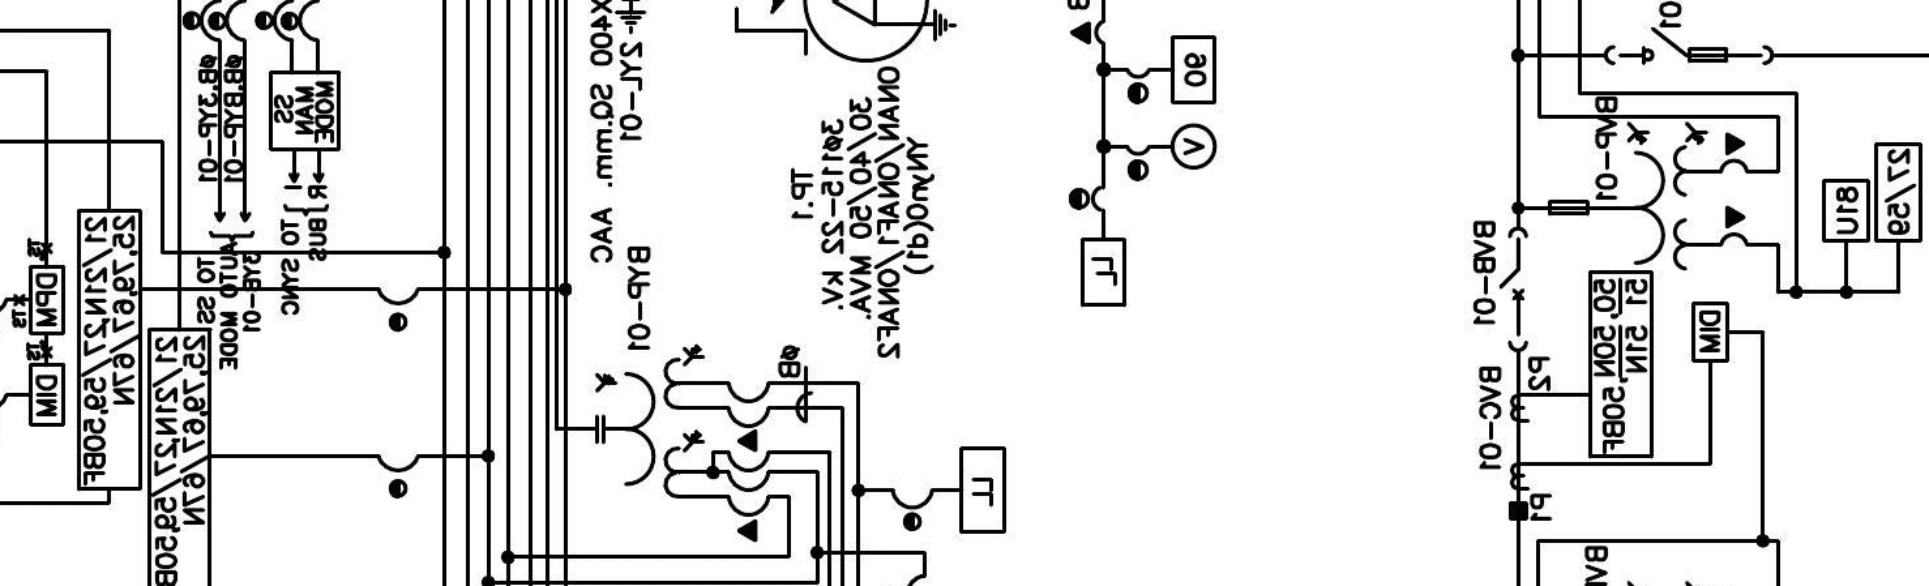115_cvt_3p: (595, 343, 706, 499)
22_breaker: (1499, 226, 1529, 353)
22_ds: (1603, 27, 1774, 66)
22_vt_3p: (1547, 120, 1750, 272)
DIM: (28, 363, 66, 428), (1691, 301, 1729, 363)
DPM: (28, 265, 66, 336)
LL: (959, 446, 1007, 534), (1081, 237, 1127, 307)
ss_man_mode: (268, 70, 341, 152)
v_m: (1170, 122, 1218, 171)
